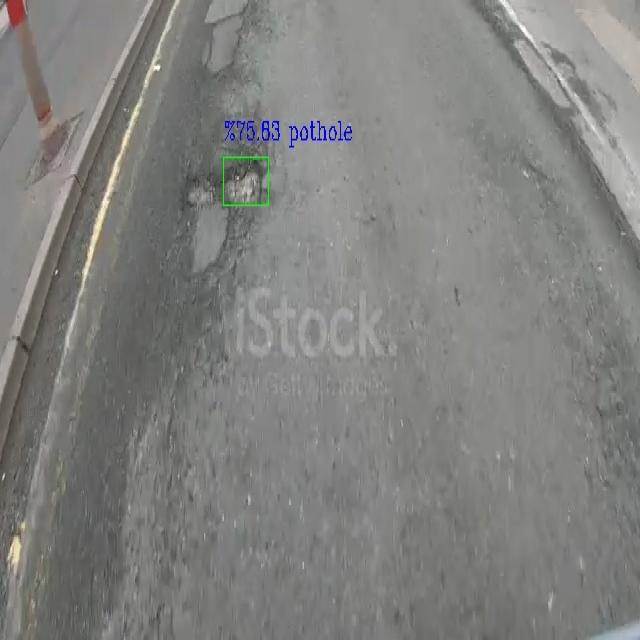pothole: (181, 169, 231, 277), (225, 160, 268, 203)
